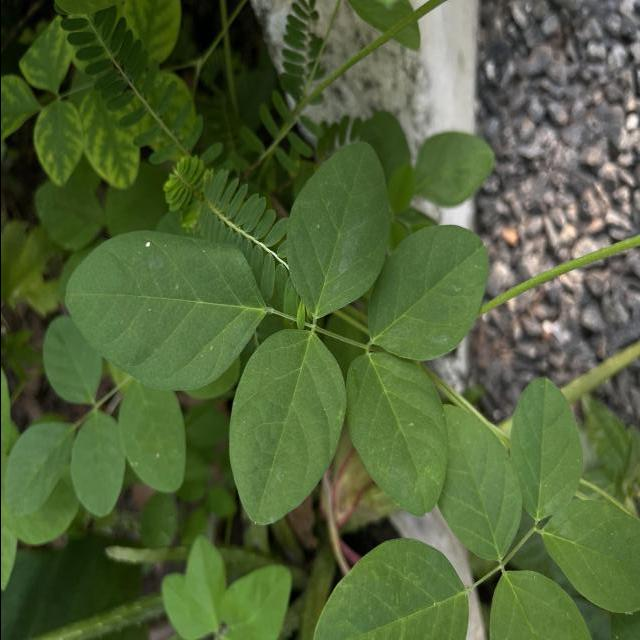Clitoria ternatea: (61, 225, 266, 394), (225, 326, 348, 527), (284, 139, 390, 320), (342, 351, 449, 518), (365, 223, 490, 363), (506, 374, 584, 522)
